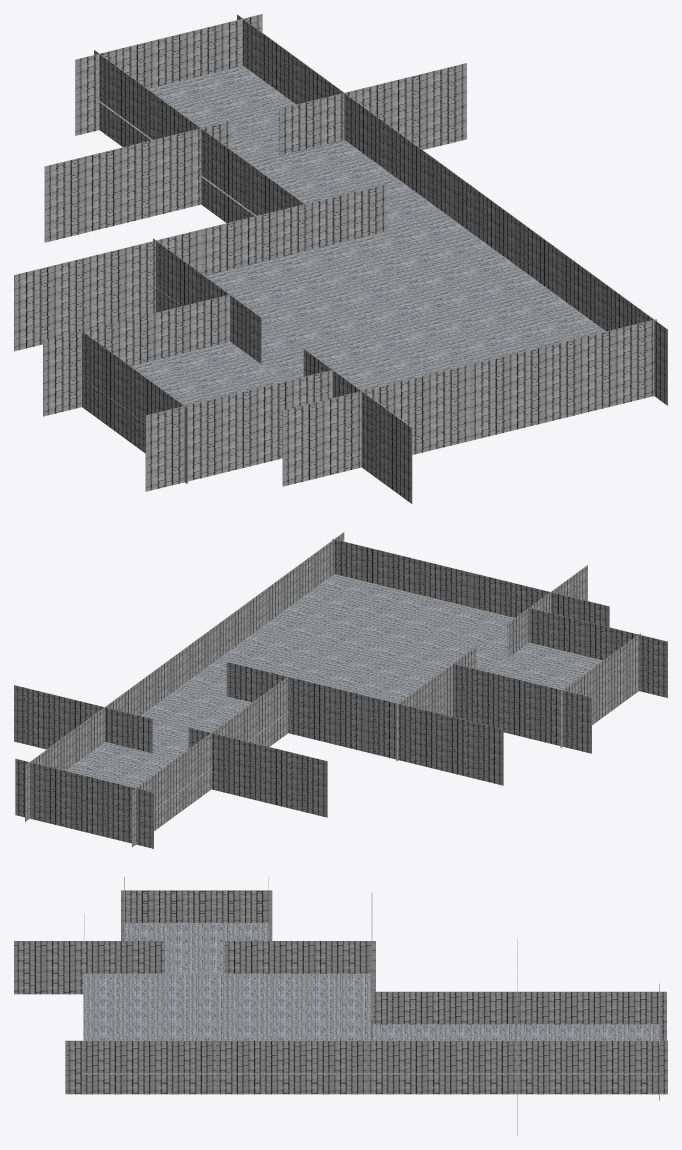
File: background.fbx
The picture shows the model from 3 angles, top to bottom: view 1: azimuth 30°, elevation 25°; view 2: azimuth 150°, elevation 25°; view 3: azimuth 270°, elevation 25°; orthographic projection. The views are drawn at different scales.
Parts seen in each view (by area): view 1: Box011, Box020, Box006, Box023, Box021, Box017, Box012, Box005, Box024, Box009, Box013, Box003 (+13 smaller); view 2: Box013, Box017, Box024, Box003, Box006, Box014, Box009, Box011, Box005, Box023, Box020, Box007 (+13 smaller); view 3: Box004, Box010, Box015, Box016, Box014, Box012, Box019, Box002, Box025, Box018, Box008, Box022 (+4 smaller).
Part boxes in pixels (<box>): Box011: <box>304,216,550,326</box>; Box020: <box>470,319,656,440</box>; Box006: <box>44,121,231,242</box>; Box023: <box>145,370,332,491</box>; Box021: <box>282,365,469,486</box>; Box017: <box>14,229,201,351</box>; Box012: <box>156,251,406,361</box>; Box005: <box>279,63,466,155</box>; Box024: <box>43,294,229,416</box>; Box009: <box>201,184,387,275</box>; Box013: <box>406,291,654,401</box>; Box003: <box>75,14,262,135</box>; Box013: <box>259,574,441,655</box>; Box017: <box>365,695,503,785</box>; Box024: <box>453,663,591,753</box>; Box003: <box>15,758,153,848</box>; Box006: <box>188,727,327,817</box>; Box014: <box>366,600,529,673</box>; Box009: <box>226,662,365,751</box>; Box011: <box>182,629,365,695</box>; Box005: <box>14,685,152,753</box>; Box023: <box>529,608,667,697</box>; Box020: <box>332,539,470,606</box>; Box007: <box>140,685,289,757</box>; Box004: <box>516,1040,667,1094</box>; Box010: <box>366,1040,517,1094</box>; Box015: <box>216,1040,367,1094</box>; Box016: <box>65,1040,216,1094</box>; Box014: <box>83,973,227,1023</box>; Box012: <box>227,973,371,1023</box>; Box019: <box>14,941,165,994</box>; Box002: <box>516,991,666,1040</box>; Box025: <box>121,890,272,940</box>; Box018: <box>224,941,375,991</box>; Box008: <box>371,991,522,1024</box>; Box022: <box>125,923,268,973</box>.
Bounding box in the file's own units: 5767 × 696 × 7752.
Materials: 2 (2 with a texture image).
